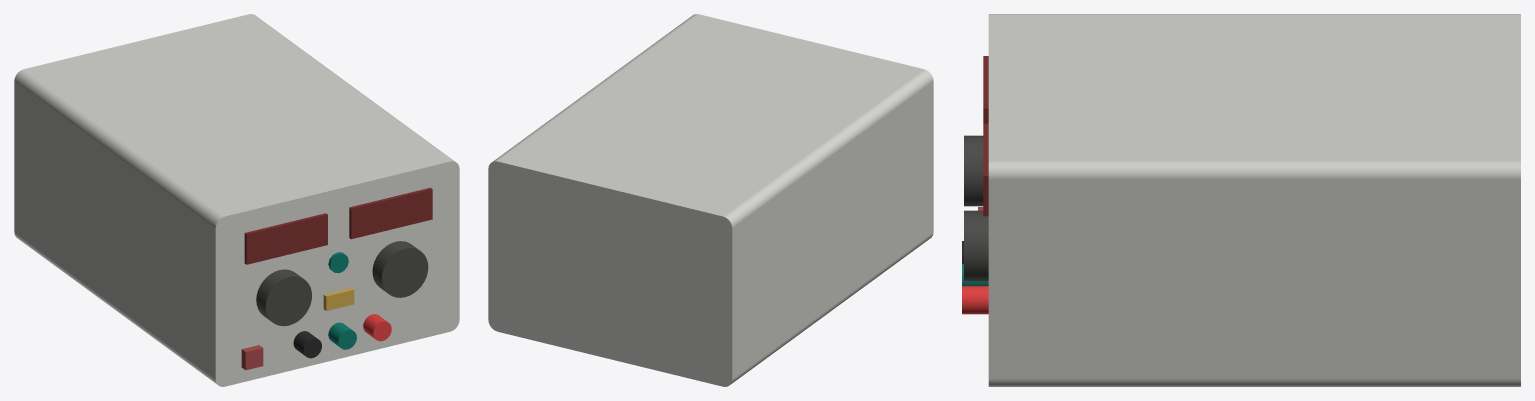
The model's file is dc_power_supply.glb.
3 renders of one model, left to right at view 1: azimuth 30°, elevation 25°; view 2: azimuth 150°, elevation 25°; view 3: azimuth 270°, elevation 25°, orthographic. The views are drawn at different scales.
Visible parts, largest first — view 1: body, voltage_display, current_display, current_knobs, voltage_knobs, ground_terminal, negative_terminal, positive_terminal, output_button, power_switch; view 2: body; view 3: body, current_knobs, voltage_knobs, positive_terminal, current_display.
Part boxes in pixels (left/top/right/bottom): body: left=14, top=14, right=459, bottom=386; voltage_display: left=244, top=213, right=327, bottom=264; current_display: left=349, top=187, right=432, bottom=239; current_knobs: left=372, top=241, right=428, bottom=297; voltage_knobs: left=256, top=269, right=311, bottom=326; ground_terminal: left=328, top=322, right=356, bottom=349; negative_terminal: left=293, top=331, right=321, bottom=358; positive_terminal: left=363, top=314, right=391, bottom=341; output_button: left=323, top=288, right=354, bottom=310; power_switch: left=241, top=345, right=263, bottom=370; body: left=488, top=14, right=933, bottom=386; body: left=988, top=14, right=1520, bottom=386; current_knobs: left=964, top=210, right=988, bottom=281; voltage_knobs: left=964, top=135, right=983, bottom=206; positive_terminal: left=962, top=286, right=988, bottom=314; current_display: left=983, top=123, right=988, bottom=216.
Size of the model in its own units: 0.21 by 0.14 by 0.315.
